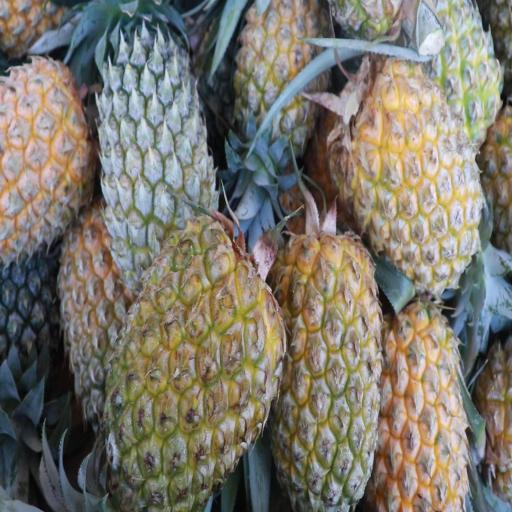------------------------------: (60, 222, 136, 436), (235, 0, 328, 154)
Pineapple - v8 v1: (112, 218, 272, 511), (348, 66, 478, 282), (276, 233, 378, 508), (376, 297, 464, 509), (0, 58, 91, 236)
